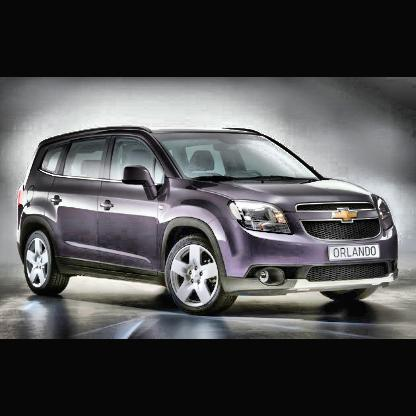Chevrolet HHR SS 2010: (18, 130, 401, 315)
